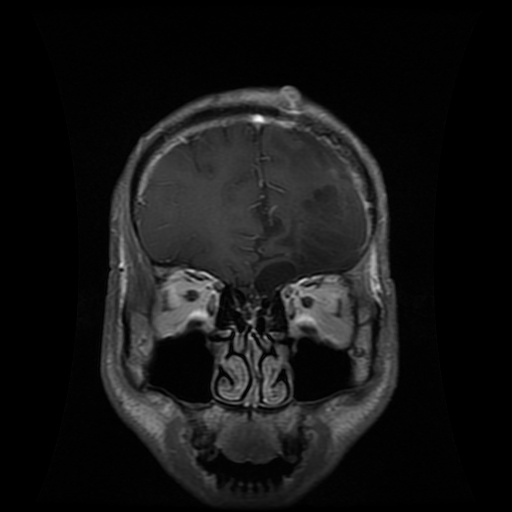glioma: (253, 183, 363, 296)
